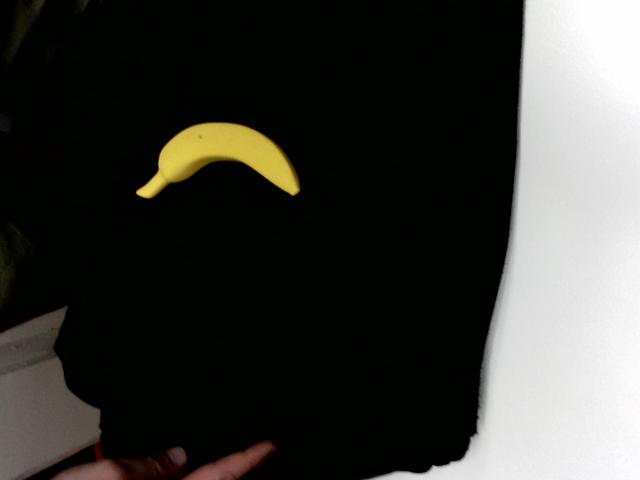banana: (135, 120, 299, 197)
